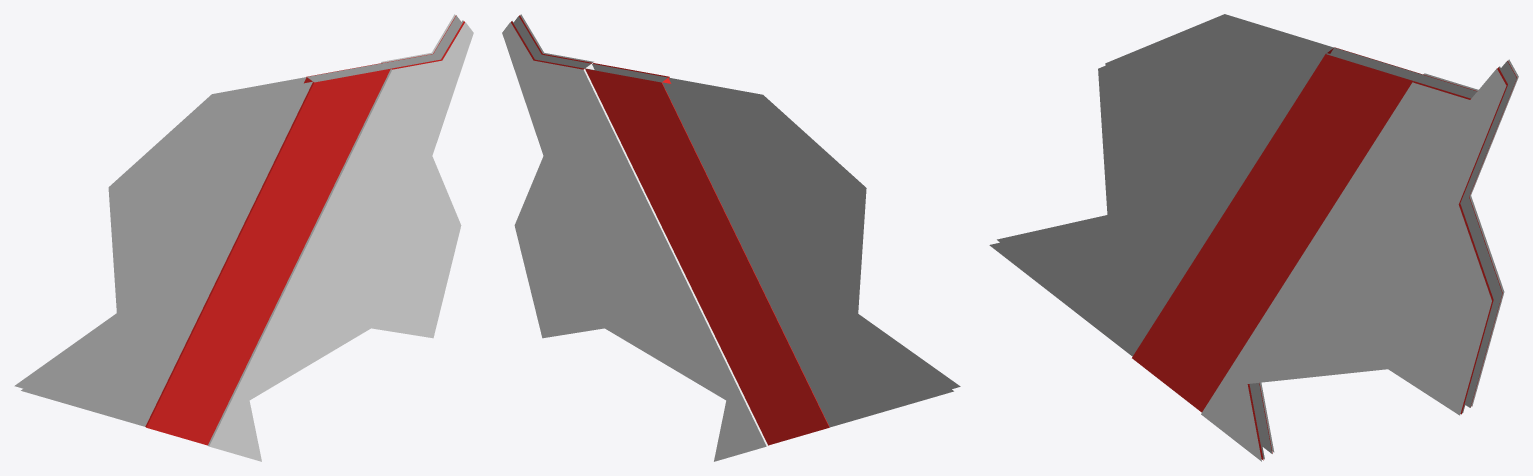
The model's file is midleLeftPh.fbx.
3 views of the same model, side by side, from view 1: azimuth 30°, elevation 25°; view 2: azimuth 150°, elevation 25°; view 3: azimuth 330°, elevation 25° (orthographic). The views are drawn at different scales.
Visible parts, largest first — view 1: Plane.058; view 2: Plane.058; view 3: Plane.058.
Boxes of the visible parts, left/top/right/bottom form: Plane.058: left=14, top=14, right=473, bottom=461; Plane.058: left=502, top=14, right=960, bottom=461; Plane.058: left=989, top=14, right=1518, bottom=461.
Size of the model in its own units: 2.92 by 2.42 by 0.1205.
